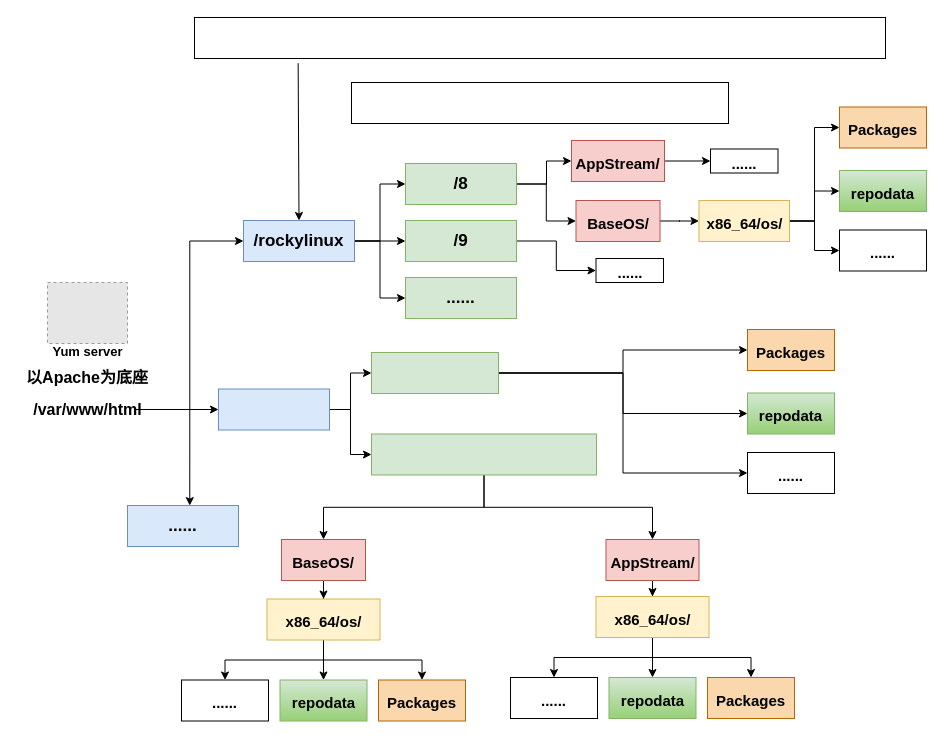
Image size: 944x748. Some labels were removed from this diagram. Grey dashed boxes stand in for pictures. The box of each missing label's shape, as (x1, y1, x2, y2) in pixels:
/ centos/8-stream /os/x86_64: (370, 433, 596, 475)
/7/os/x86_64: (370, 352, 498, 394)
/centos: (218, 388, 330, 430)
以下路径我就以阿里云的为例，只举例x86系统: (350, 82, 728, 124)
因为是yum server，公司可能具备多台系统的机子，所以我们要创建多个系统版本的文件夹: (194, 16, 886, 58)
